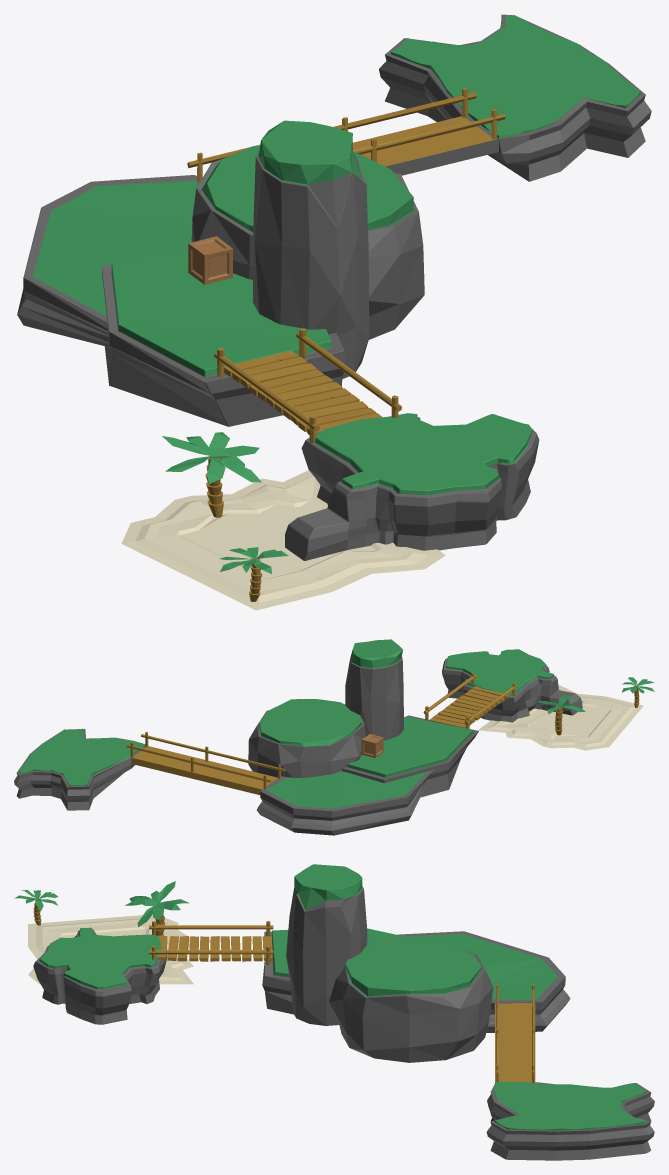
The model's file is niveau1-Extension7.glb.
3 renders of one model, top to bottom at view 1: azimuth 30°, elevation 25°; view 2: azimuth 150°, elevation 25°; view 3: azimuth 270°, elevation 25°, orthographic. The views are drawn at different scales.
Visible parts, largest first — view 1: BaseNewIsland, Palmiers 2 Feuillage, Caisse, Palmier1 Feuillage; view 2: BaseNewIsland, Caisse, Palmiers 2 Feuillage; view 3: BaseNewIsland, Palmiers 2 Feuillage.
Part boxes in pixels (left/top/right/bottom): BaseNewIsland: left=17, top=14, right=651, bottom=610; Palmiers 2 Feuillage: left=162, top=432, right=261, bottom=483; Caisse: left=188, top=236, right=232, bottom=284; Palmier1 Feuillage: left=219, top=547, right=288, bottom=573; BaseNewIsland: left=14, top=639, right=643, bottom=835; Caisse: left=361, top=734, right=383, bottom=757; Palmiers 2 Feuillage: left=538, top=695, right=585, bottom=714; BaseNewIsland: left=28, top=864, right=654, bottom=1160; Palmiers 2 Feuillage: left=125, top=881, right=189, bottom=927.
Bounding box in the file's own units: 37.07 × 9.83 × 40.72.
